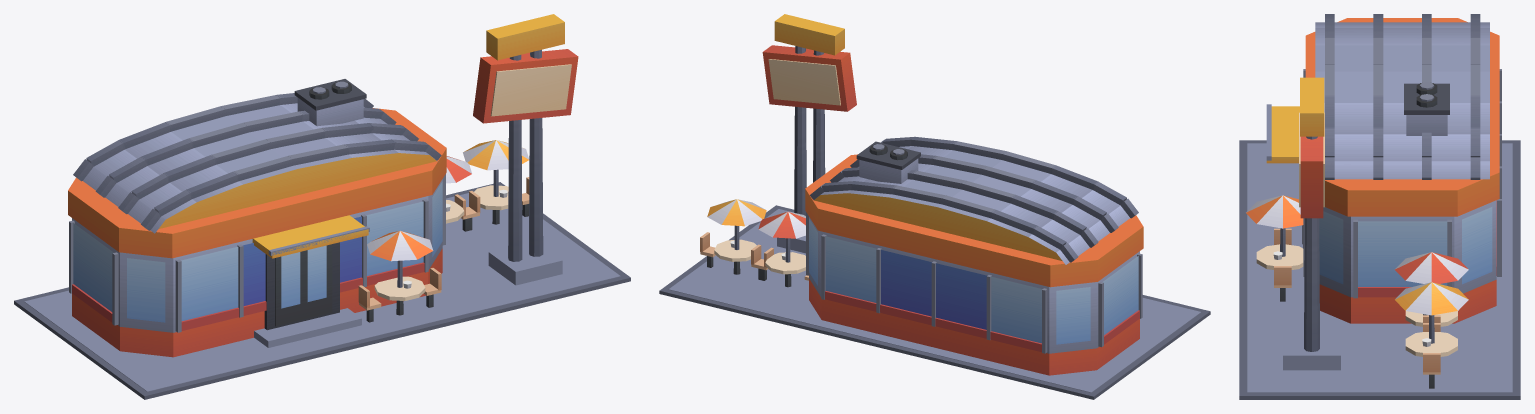
File: com_retro_diner_2x1.glb
The picture shows the model from 3 angles, left to right: view 1: azimuth 30°, elevation 25°; view 2: azimuth 150°, elevation 25°; view 3: azimuth 270°, elevation 25°; orthographic projection. The views are drawn at different scales.
Visible parts, largest first — view 1: com_retro_diner_2x1; view 2: com_retro_diner_2x1; view 3: com_retro_diner_2x1.
Part boxes in pixels (left/top/right/bottom): com_retro_diner_2x1: left=14, top=14, right=630, bottom=399; com_retro_diner_2x1: left=659, top=14, right=1210, bottom=399; com_retro_diner_2x1: left=1239, top=14, right=1520, bottom=399.
Size of the model in its own units: 3.74 by 1.82 by 1.74.
1 material, 1 textured.
